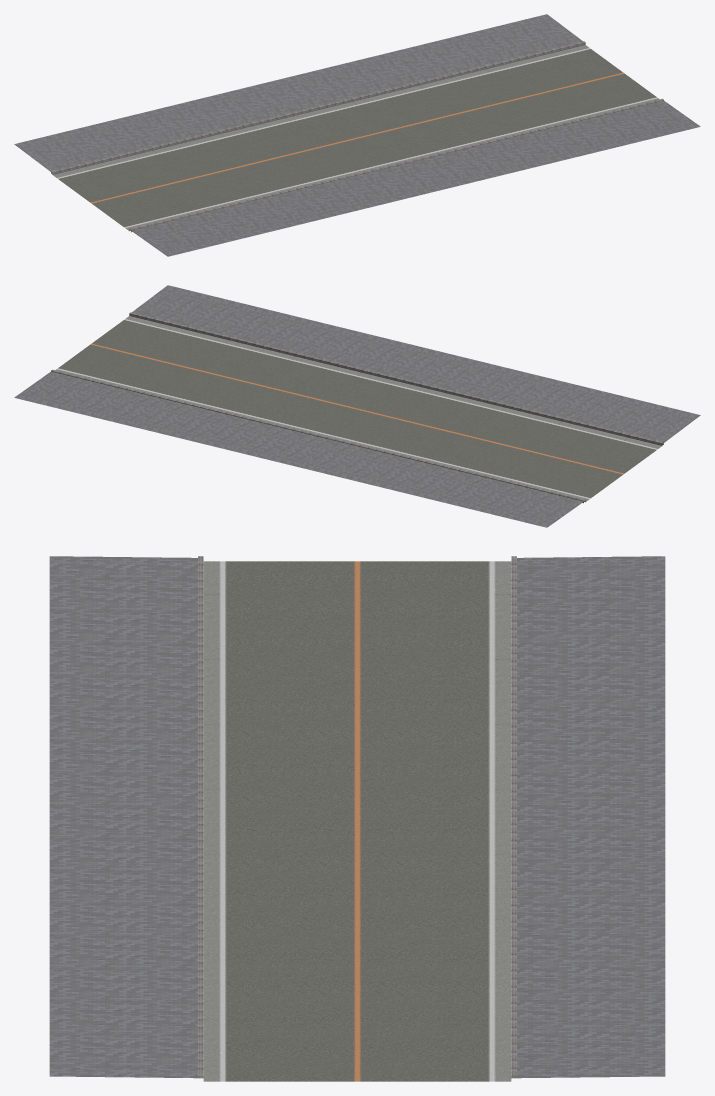
The model's file is Street_32m.fbx.
3 renders of one model, top to bottom at view 1: azimuth 30°, elevation 25°; view 2: azimuth 150°, elevation 25°; view 3: azimuth 270°, elevation 25°, orthographic. The views are drawn at different scales.
Visible parts, largest first — view 1: 001_roadway_8x32m_orange, 500_sidewalk_w4m_32m, 500_sidewalk_w4m_32m.001, 100_curb_32m, 100_curb_32m.001; view 2: 001_roadway_8x32m_orange, 500_sidewalk_w4m_32m.001, 500_sidewalk_w4m_32m, 100_curb_32m.001, 100_curb_32m; view 3: 001_roadway_8x32m_orange, 500_sidewalk_w4m_32m.001, 500_sidewalk_w4m_32m, 100_curb_32m.001, 100_curb_32m.
Boxes of the visible parts, box(x1,y1,x2,y2) form: 001_roadway_8x32m_orange: box(53, 45, 659, 230); 500_sidewalk_w4m_32m: box(14, 14, 582, 172); 500_sidewalk_w4m_32m.001: box(129, 100, 700, 256); 100_curb_32m: box(51, 41, 585, 174); 100_curb_32m.001: box(129, 98, 663, 232); 001_roadway_8x32m_orange: box(55, 316, 661, 501); 500_sidewalk_w4m_32m.001: box(132, 285, 700, 443); 500_sidewalk_w4m_32m: box(14, 371, 585, 527); 100_curb_32m.001: box(129, 312, 663, 445); 100_curb_32m: box(51, 369, 585, 503); 001_roadway_8x32m_orange: box(203, 561, 511, 1081); 500_sidewalk_w4m_32m.001: box(49, 556, 203, 1078); 500_sidewalk_w4m_32m: box(511, 556, 665, 1078); 100_curb_32m.001: box(198, 556, 203, 1076); 100_curb_32m: box(511, 556, 516, 1076).
Size of the model in its own units: 32 by 0.15 by 16.
